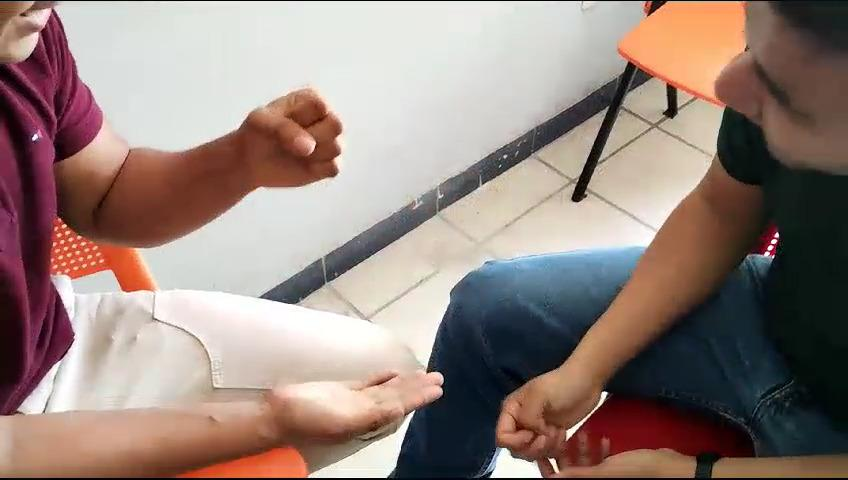Paper: (265, 359, 450, 450)
Stone: (227, 77, 362, 204)
